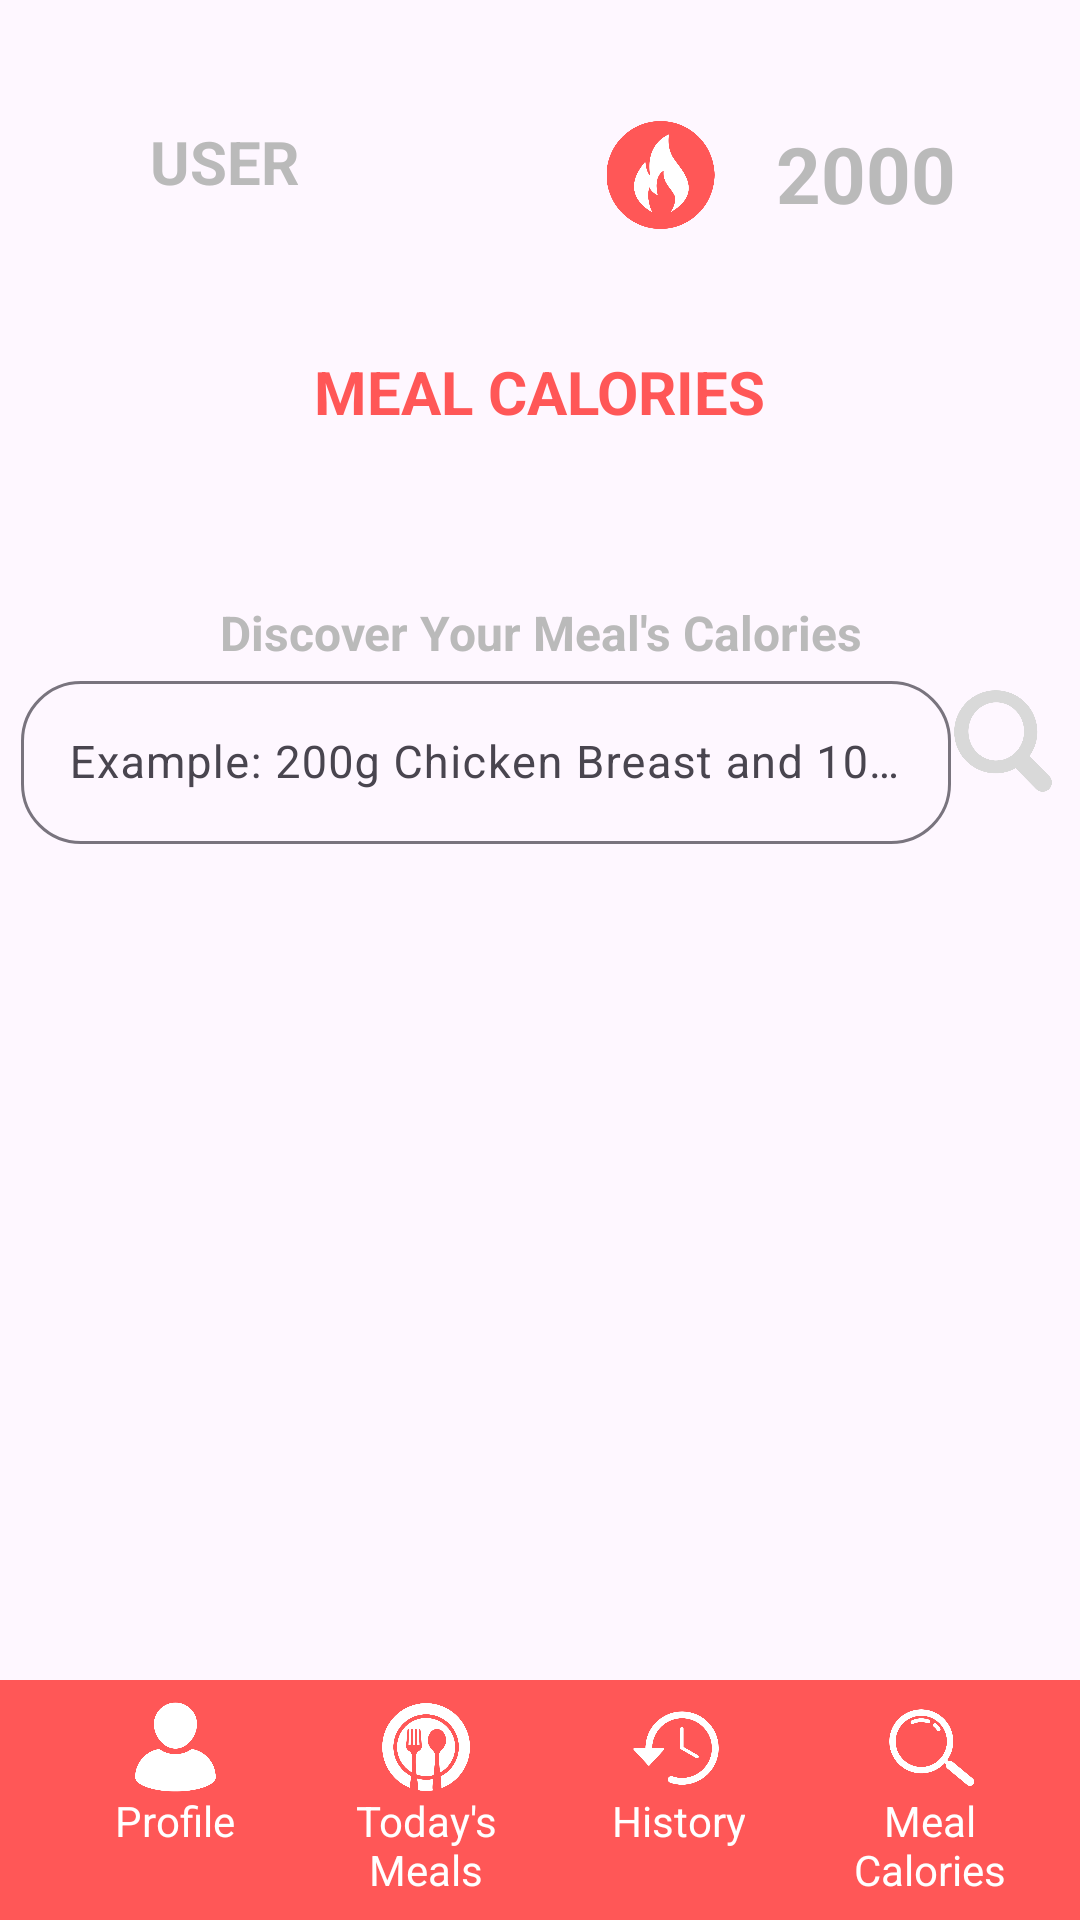

Locate icon controls on the screen. Image size 1080px×1920px, boxes as rect(x1, y1, x2, y2).
calorie fire: rect(607, 121, 715, 229)
